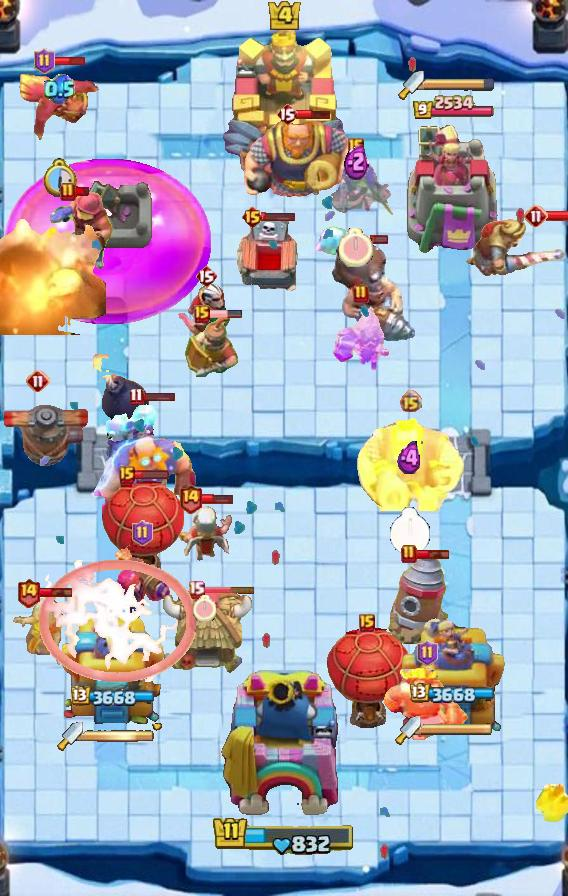baby-dragon: (90, 354, 150, 426)
bar: (406, 122, 500, 256), (62, 611, 166, 731), (402, 615, 507, 731)
barbarian-evolution: (38, 560, 196, 682)
barbarian-hut: (313, 151, 399, 223)
bat: (314, 225, 352, 259)
cannon-cart: (100, 479, 184, 581), (325, 626, 409, 728)
clock: (212, 815, 356, 857)
dark-prince: (0, 384, 90, 472)
earthquake: (184, 311, 240, 377)
electro-spirit: (344, 142, 369, 180), (45, 74, 75, 105), (397, 441, 423, 476)
elixir: (389, 507, 431, 557), (41, 158, 77, 198), (339, 229, 373, 268), (193, 594, 216, 621)
elixir-golem-mid: (234, 214, 304, 300)
emote: (202, 585, 256, 595), (415, 548, 451, 560), (38, 586, 74, 598), (52, 55, 87, 67), (134, 469, 171, 480), (296, 108, 332, 119), (140, 390, 176, 401), (200, 493, 233, 505), (261, 210, 296, 221), (207, 309, 243, 319), (546, 210, 568, 222), (370, 234, 390, 245), (73, 187, 91, 198)
fireball: (47, 192, 115, 272)
giant-skeleton: (242, 113, 358, 203), (355, 417, 465, 511)
goblin-hut: (384, 668, 470, 740)
king-tower: (220, 21, 348, 181), (219, 670, 349, 826)
king-tower-bar: (424, 77, 496, 91), (421, 723, 493, 737), (83, 729, 155, 743)
knight-evolution: (4, 158, 212, 325)
little-prince: (94, 398, 200, 526)
magic-archer: (385, 550, 451, 648)
mega-minion: (112, 545, 172, 625)
mother-witch: (16, 66, 102, 150)
poison: (0, 592, 88, 676), (160, 501, 248, 575)
prince: (159, 586, 253, 676)
ram-rider: (462, 216, 568, 282)
selected: (413, 95, 496, 121), (411, 683, 498, 705), (71, 686, 157, 708)
skeleton-king: (175, 283, 237, 351)
tesla-evolution: (331, 308, 391, 374)
text: (16, 576, 41, 607), (178, 483, 202, 514), (524, 204, 548, 228), (26, 369, 50, 393), (131, 520, 153, 546), (241, 205, 264, 229), (398, 391, 422, 414), (34, 48, 55, 74), (417, 640, 438, 666), (276, 102, 298, 126), (195, 264, 217, 288), (60, 182, 76, 202), (353, 284, 369, 304), (401, 544, 417, 564), (187, 581, 204, 599), (348, 138, 364, 156), (194, 305, 210, 323), (119, 466, 135, 484), (359, 614, 375, 632), (129, 386, 144, 405)
valkyrie: (0, 207, 106, 335), (532, 784, 568, 826)
wizard: (329, 236, 417, 344)
